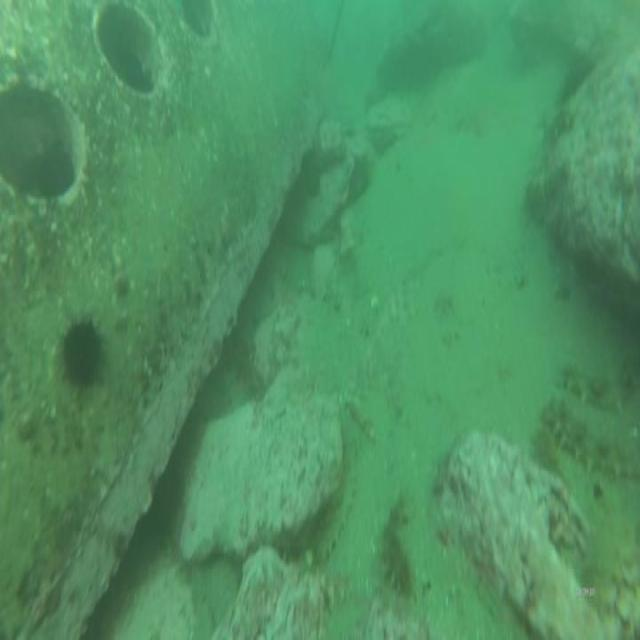echinus: (59, 308, 113, 397)
holothurian: (544, 396, 639, 492), (583, 503, 637, 602), (377, 493, 415, 599), (560, 360, 627, 416)
